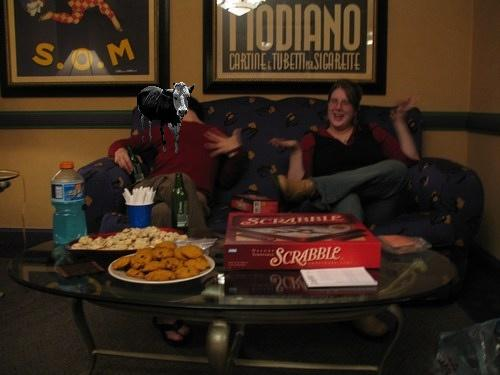tampered: (138, 83, 195, 153)
